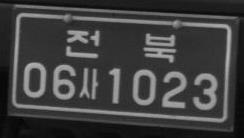0: (131, 68, 156, 106), (22, 60, 46, 99)
1: (104, 67, 124, 103)
2: (161, 70, 187, 109)
3: (191, 72, 218, 111)
6: (52, 63, 76, 100)
사: (78, 67, 99, 100)
전북_D: (65, 28, 177, 63)
